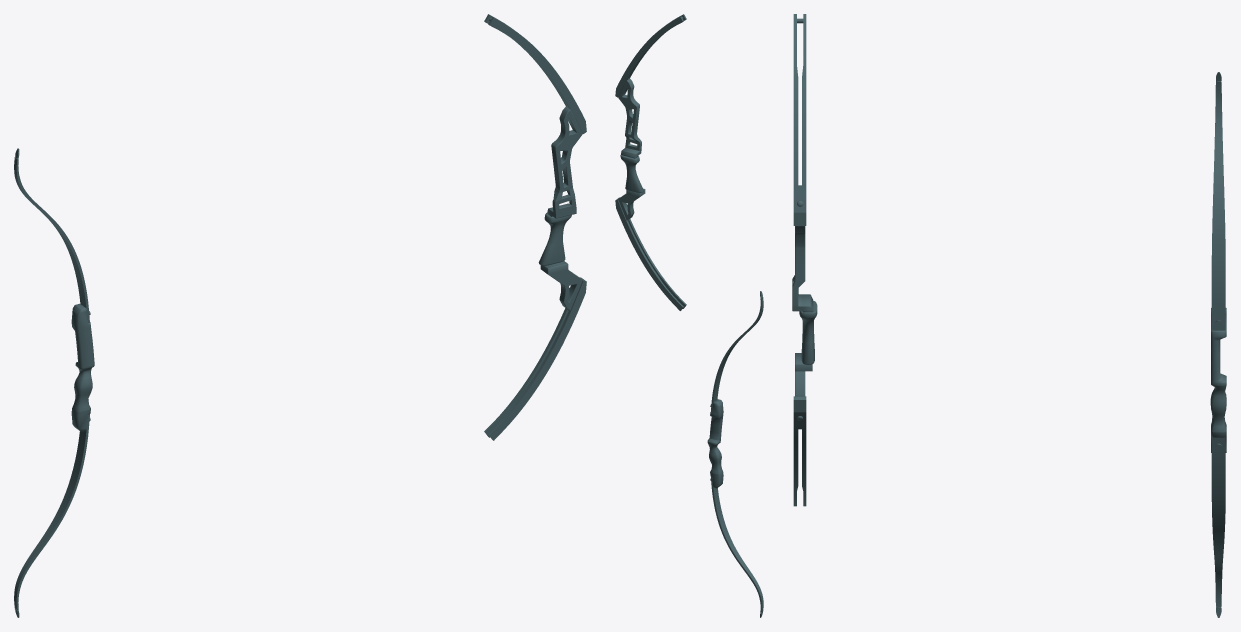
The model's file is modern_bow_1.fbx.
The picture shows the model from 3 angles, left to right: view 1: azimuth 30°, elevation 25°; view 2: azimuth 150°, elevation 25°; view 3: azimuth 270°, elevation 25°; orthographic projection. The views are drawn at different scales.
Visible parts, largest first — view 1: Model_Bow_Compound, Bow_Recurve; view 2: Model_Bow_Compound, Bow_Recurve; view 3: Bow_Recurve, Model_Bow_Compound.
Part boxes in pixels (x1,y1,x2,y2): Model_Bow_Compound: (484,14,586,440); Bow_Recurve: (14,148,94,617); Model_Bow_Compound: (615,14,686,310); Bow_Recurve: (707,291,763,617); Bow_Recurve: (1210,72,1226,617); Model_Bow_Compound: (792,14,817,506).
Size of the model in its own units: 136 by 221 by 113.
